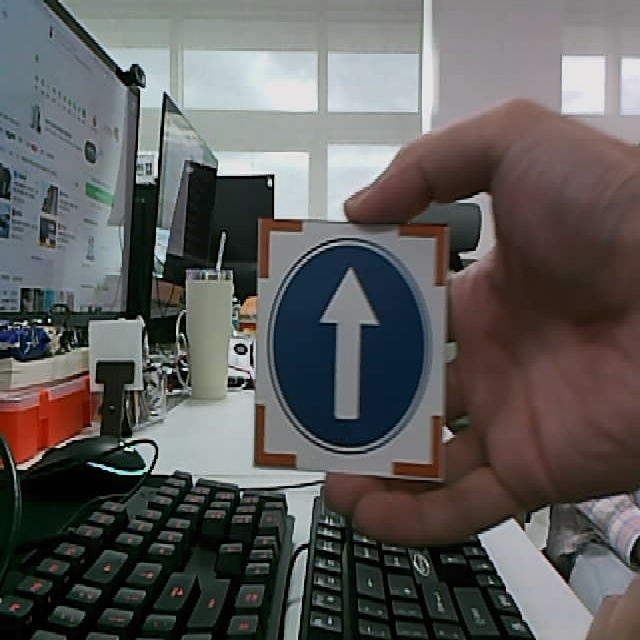straight: (249, 218, 455, 484)
